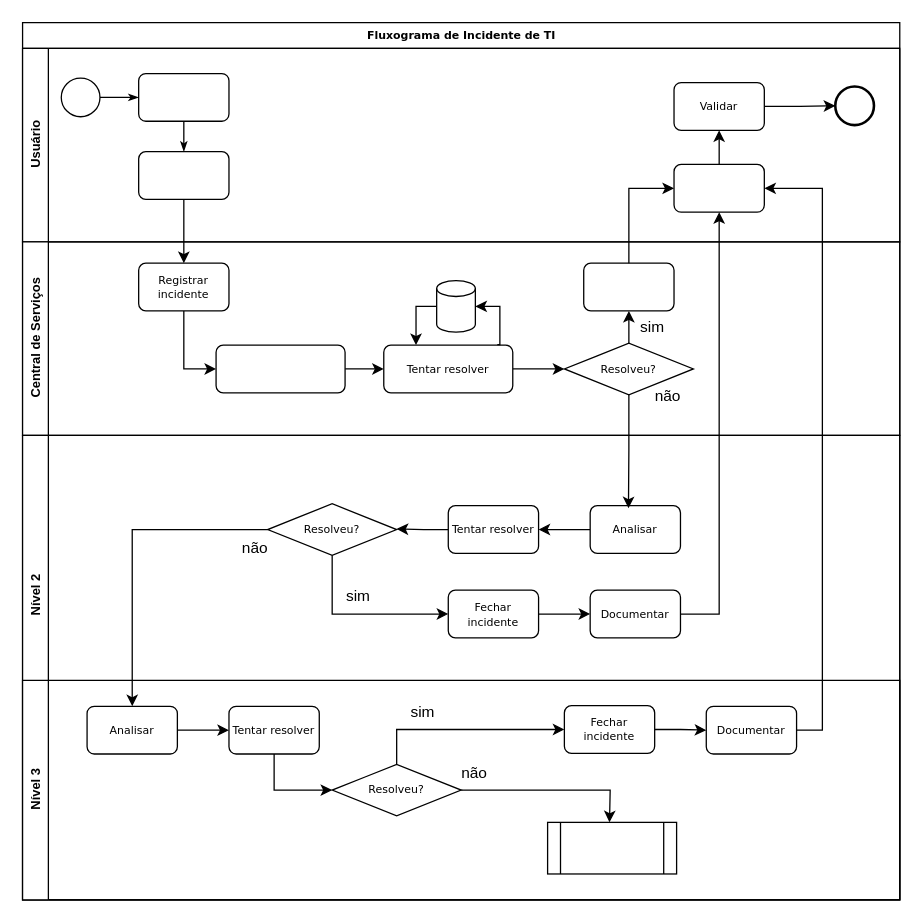
Image size: 922x922. Some labels were removed from this diagram. Here are the shapes that lost their labels. From the top down, the centre of each, then its label:
At (183,96): "Falha detectada".
At (183,174): "abrir chamado".
At (718,187): "Receber notificação".
At (628,286): "Fechar o chamado".
At (280,368): "Classificar urgência/ impacto".
At (611,847): "Subprocesso com fornecedor".
